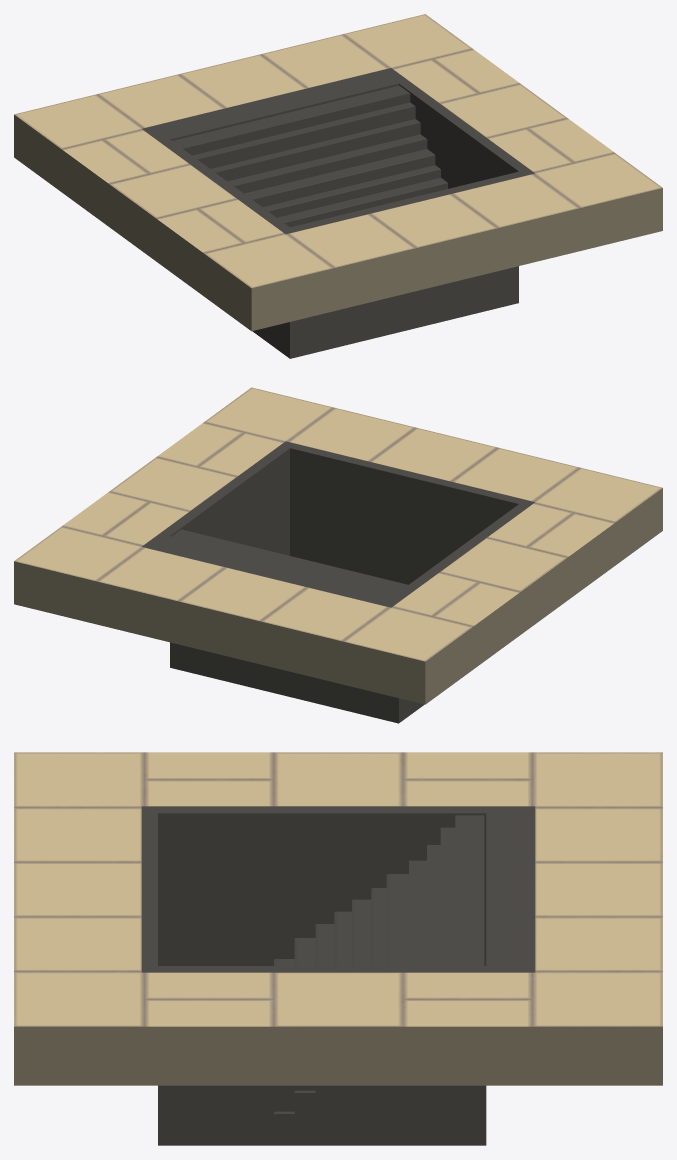
Rendered from tile0063.gltf.
3 views of the same model, one above another, from view 1: azimuth 30°, elevation 25°; view 2: azimuth 150°, elevation 25°; view 3: azimuth 270°, elevation 25° (orthographic). The views are drawn at different scales.
Visible parts, largest first — view 1: Cube.002; view 2: Cube.002; view 3: Cube.002.
Part boxes in pixels (left/top/right/bottom): Cube.002: left=14, top=14, right=662, bottom=358; Cube.002: left=14, top=387, right=662, bottom=723; Cube.002: left=14, top=752, right=662, bottom=1145.
Size of the model in its own units: 2 by 0.6109 by 2.
3 materials, 1 textured.
